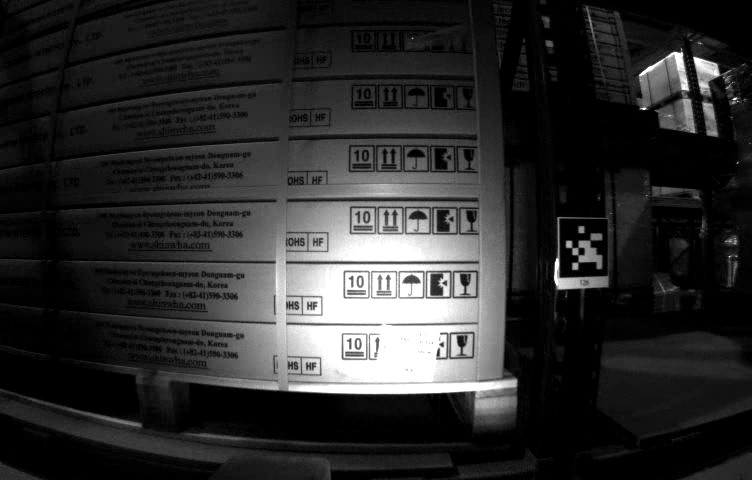True Barcode: (374, 324, 439, 388)
